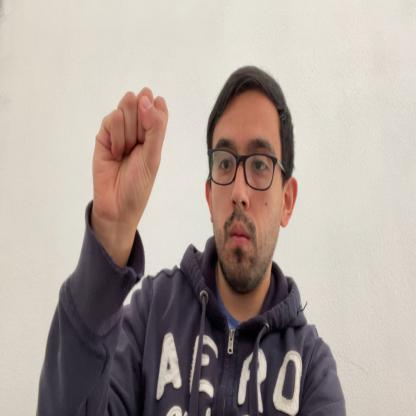S: (92, 84, 168, 234)
